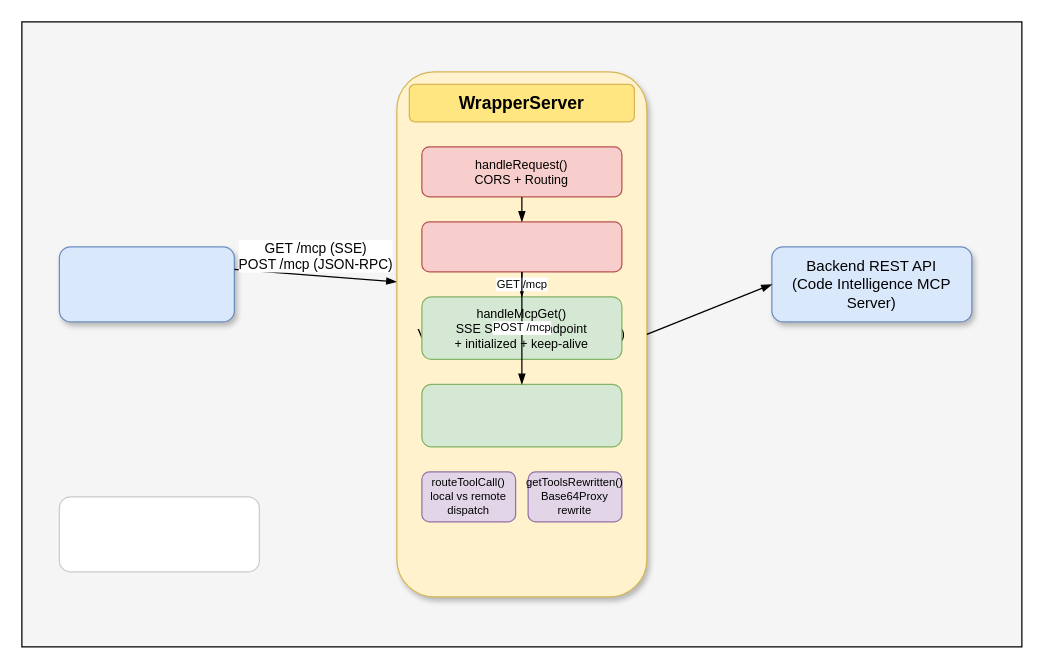
Some shapes in this 1044 by 669 pixel diagram are drawn without their labels. The centre of each missing label's shape, as x and y in pixels:
"handleMcp() GET / POST Dispatch" goes at point (521, 246).
"handleMcpPost() JSON-RPC Router initialize / ping / tools/list / tools/call" goes at point (521, 415).
"Legend: 🟢 SSE/Stream handling 🔴 Routing/CORS 🟣 Tool processing" goes at point (158, 534).
"OpenCode CLI (MCP Client)" goes at point (147, 286).
